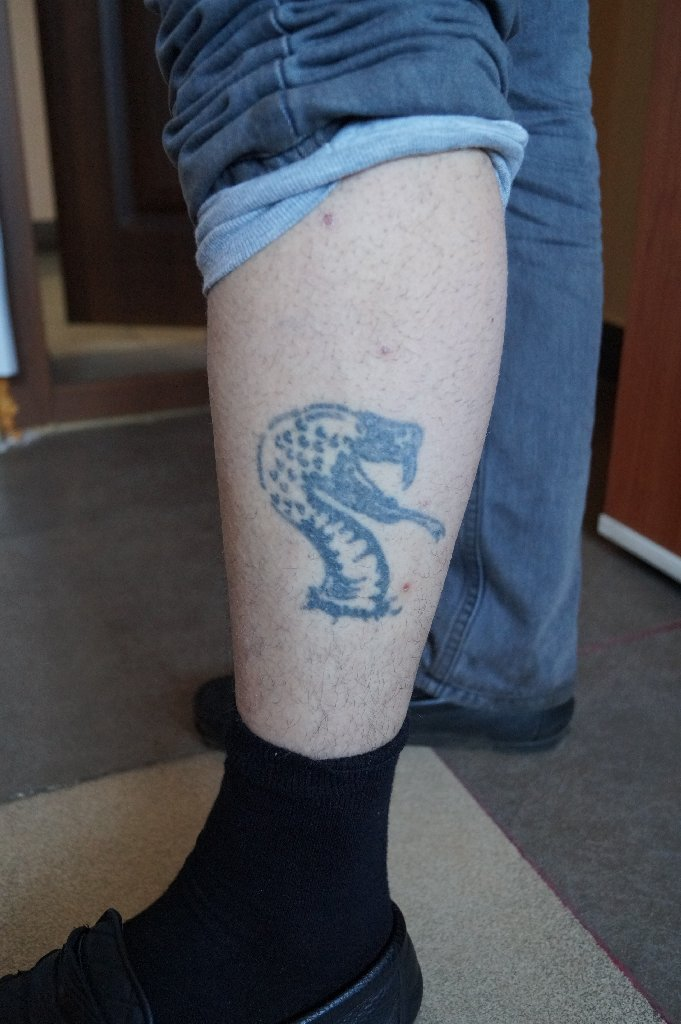tatu7_zmeya: (247, 378, 444, 626)
